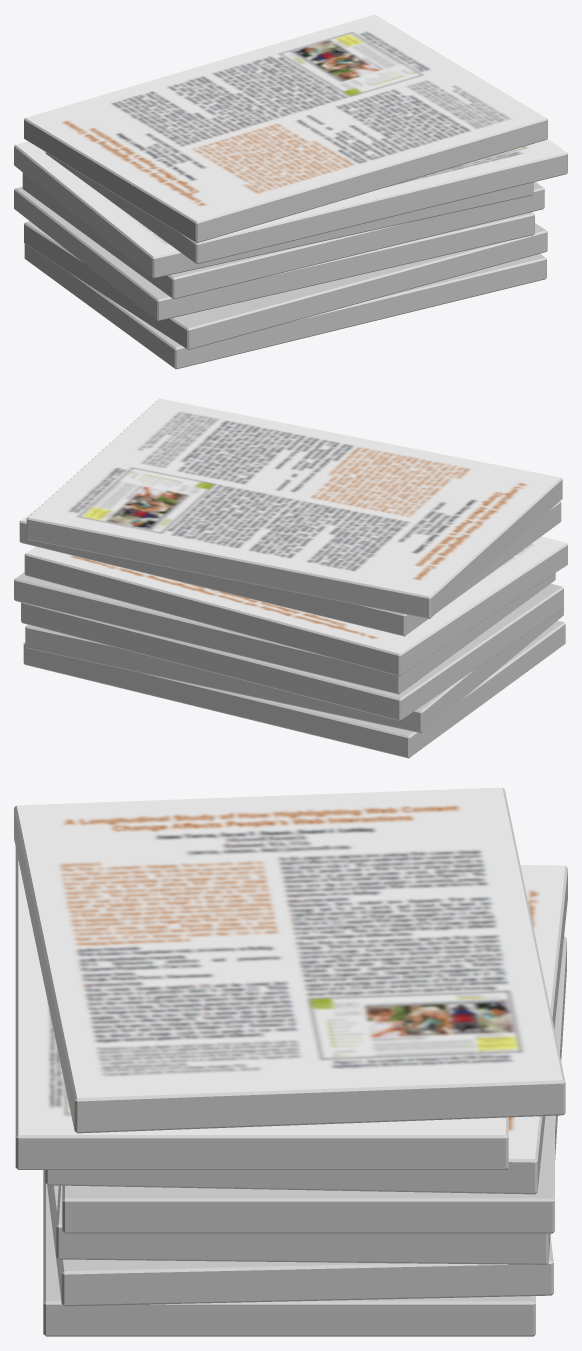
The model's file is paper3.FBX.
The picture shows the model from 3 angles, top to bottom: view 1: azimuth 30°, elevation 25°; view 2: azimuth 150°, elevation 25°; view 3: azimuth 270°, elevation 25°; orthographic projection. The views are drawn at different scales.
Visible parts, largest first — view 1: Paper 3; view 2: Paper 3; view 3: Paper 3.
Boxes of the visible parts, <box> form: Paper 3: <box>14,14,567,369</box>; Paper 3: <box>14,398,567,758</box>; Paper 3: <box>14,787,567,1336</box>.
Size of the model in its own units: 288 by 214 by 105.
Materials: 2 (1 with a texture image).
